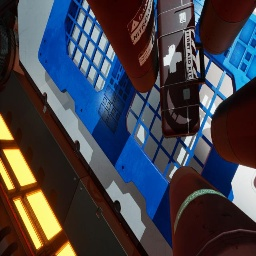FirstAidBox ,: (156, 0, 206, 139)
NitrogenTank ,: (169, 166, 256, 256), (86, 0, 159, 93), (210, 76, 256, 169), (198, 0, 256, 55)
